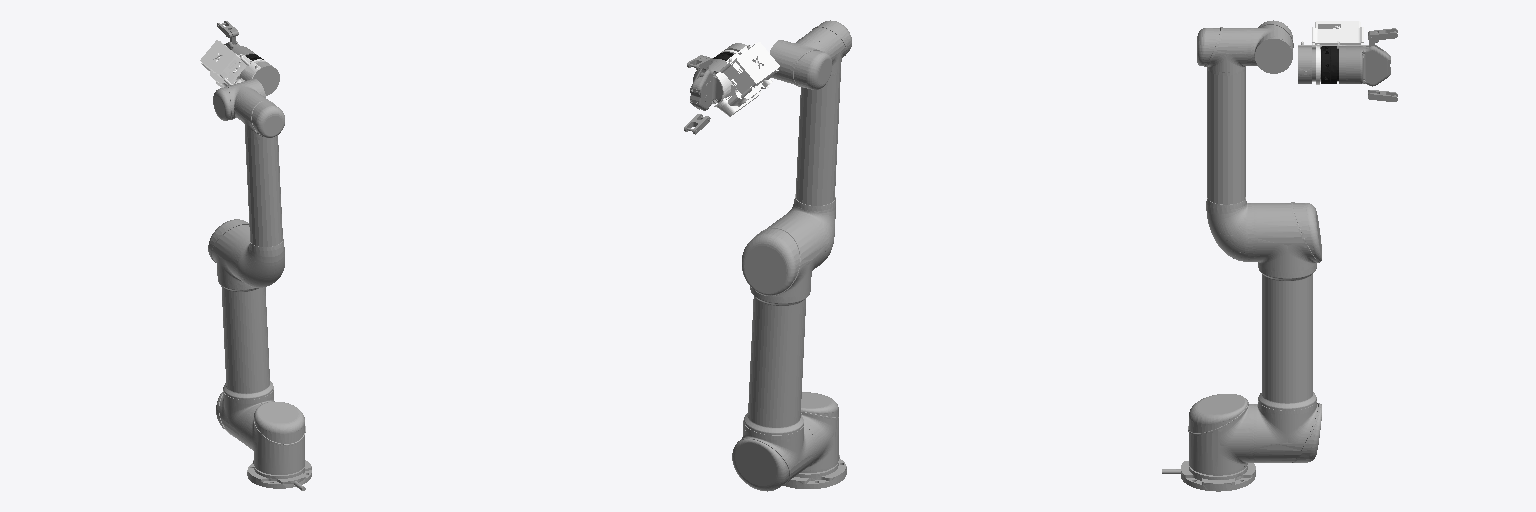
robot.urdf — ur5:
<?xml version="1.0" ?>
<!-- =================================================================================== -->
<!-- |    This document was autogenerated by xacro from ur5_joint_limited_robot.urdf.xacro | -->
<!-- |    EDITING THIS FILE BY HAND IS NOT RECOMMENDED                                 | -->
<!-- =================================================================================== -->
<robot name="ur5" xmlns:xacro="http://www.ros.org/wiki/xacro">
  <!-- ur5 arm -->

  <link name="base_link">
    <visual>
      <geometry>
        <mesh filename="package://xamla_egomo/meshes/ur5/visual/base.dae"/>
      </geometry>
      <material name="LightGrey">
        <color rgba="0.7 0.7 0.7 1.0"/>
      </material>
    </visual>
    <collision>
      <geometry>
        <mesh filename="package://xamla_egomo/meshes/ur5/collision/base.stl"/>
      </geometry>
    </collision>
    <inertial>
      <mass value="4.0"/>
      <origin rpy="0 0 0" xyz="0.0 0.0 0.0"/>
      <inertia ixx="0.00443333156" ixy="0.0" ixz="0.0" iyy="0.00443333156" iyz="0.0" izz="0.0072"/>
    </inertial>
  </link>
  <joint name="shoulder_pan_joint" type="revolute">
    <parent link="base_link"/>
    <child link="shoulder_link"/>
    <origin rpy="0.0 0.0 0.0" xyz="0.0 0.0 0.089159"/>
    <axis xyz="0 0 1"/>
    <limit effort="150.0" lower="-3.14159265" upper="3.14159265" velocity="3.15"/>
    <dynamics damping="0.0" friction="0.0"/>
  </joint>
  <link name="shoulder_link">
    <visual>
      <geometry>
        <mesh filename="package://xamla_egomo/meshes/ur5/visual/shoulder.dae"/>
      </geometry>
      <material name="LightGrey">
        <color rgba="0.7 0.7 0.7 1.0"/>
      </material>
    </visual>
    <collision>
      <geometry>
        <mesh filename="package://xamla_egomo/meshes/ur5/collision/shoulder.stl"/>
      </geometry>
    </collision>
    <inertial>
      <mass value="3.7"/>
      <origin rpy="0 0 0" xyz="0.0 0.0 0.0"/>
      <inertia ixx="0.010267495893" ixy="0.0" ixz="0.0" iyy="0.010267495893" iyz="0.0" izz="0.00666"/>
    </inertial>
  </link>
  <joint name="shoulder_lift_joint" type="revolute">
    <parent link="shoulder_link"/>
    <child link="upper_arm_link"/>
    <origin rpy="0.0 1.570796326795 0.0" xyz="0.0 0.13585 0.0"/>
    <axis xyz="0 1 0"/>
    <limit effort="150.0" lower="-3.14159265" upper="-0.1" velocity="3.15"/>
    <dynamics damping="0.0" friction="0.0"/>
  </joint>
  <link name="upper_arm_link">
    <visual>
      <geometry>
        <mesh filename="package://xamla_egomo/meshes/ur5/visual/upper_arm.dae"/>
      </geometry>
      <material name="LightGrey">
        <color rgba="0.7 0.7 0.7 1.0"/>
      </material>
    </visual>
    <collision>
      <geometry>
        <mesh filename="package://xamla_egomo/meshes/ur5/collision/upper_arm.stl"/>
      </geometry>
    </collision>
    <inertial>
      <mass value="8.393"/>
      <origin rpy="0 0 0" xyz="0.0 0.0 0.28"/>
      <inertia ixx="0.22689067591" ixy="0.0" ixz="0.0" iyy="0.22689067591" iyz="0.0" izz="0.0151074"/>
    </inertial>
  </link>
  <joint name="elbow_joint" type="revolute">
    <parent link="upper_arm_link"/>
    <child link="forearm_link"/>
    <origin rpy="0.0 0.0 0.0" xyz="0.0 -0.1197 0.425"/>
    <axis xyz="0 1 0"/>
    <limit effort="150.0" lower="-3" upper="3" velocity="3.15"/> <!-- +/- 175 deg -->
    <dynamics damping="0.0" friction="0.0"/>
  </joint>
  <link name="forearm_link">
    <visual>
      <geometry>
        <mesh filename="package://xamla_egomo/meshes/ur5/visual/forearm.dae"/>
      </geometry>
      <material name="LightGrey">
        <color rgba="0.7 0.7 0.7 1.0"/>
      </material>
    </visual>
    <collision>
      <geometry>
        <mesh filename="package://xamla_egomo/meshes/ur5/collision/forearm.stl"/>
      </geometry>
    </collision>
    <inertial>
      <mass value="2.275"/>
      <origin rpy="0 0 0" xyz="0.0 0.0 0.25"/>
      <inertia ixx="0.049443313556" ixy="0.0" ixz="0.0" iyy="0.049443313556" iyz="0.0" izz="0.004095"/>
    </inertial>
  </link>
  <joint name="wrist_1_joint" type="revolute">
    <parent link="forearm_link"/>
    <child link="wrist_1_link"/>
    <origin rpy="0.0 1.570796326795 0.0" xyz="0.0 0.0 0.39225"/>
    <axis xyz="0 1 0"/>
    <limit effort="28.0" lower="-3.92" upper="0.78" velocity="3.2"/><!-- -225 deg to 45 deg -->
    <dynamics damping="0.0" friction="0.0"/>
  </joint>
  <link name="wrist_1_link">
    <visual>
      <geometry>
        <mesh filename="package://xamla_egomo/meshes/ur5/visual/wrist_1.dae"/>
      </geometry>
      <material name="LightGrey">
        <color rgba="0.7 0.7 0.7 1.0"/>
      </material>
    </visual>
    <collision>
      <geometry>
        <mesh filename="package://xamla_egomo/meshes/ur5/collision/wrist_1.stl"/>
      </geometry>
    </collision>
    <inertial>
      <mass value="1.219"/>
      <origin rpy="0 0 0" xyz="0.0 0.0 0.0"/>
      <inertia ixx="0.111172755531" ixy="0.0" ixz="0.0" iyy="0.111172755531" iyz="0.0" izz="0.21942"/>
    </inertial>
  </link>
  <joint name="wrist_2_joint" type="revolute">
    <parent link="wrist_1_link"/>
    <child link="wrist_2_link"/>
    <origin rpy="0.0 0.0 0.0" xyz="0.0 0.093 0.0"/>
    <axis xyz="0 0 1"/>
    <limit effort="28.0" lower="-3.1415926535898" upper="3.1415926535898" velocity="3.15"/>
    <dynamics damping="0.0" friction="0.0"/>
  </joint>
  <link name="wrist_2_link">
    <visual>
      <geometry>
        <mesh filename="package://xamla_egomo/meshes/ur5/visual/wrist_2.dae"/>
      </geometry>
      <material name="LightGrey">
        <color rgba="0.7 0.7 0.7 1.0"/>
      </material>
    </visual>
    <collision>
      <geometry>
        <mesh filename="package://xamla_egomo/meshes/ur5/collision/wrist_2.stl"/>
      </geometry>
    </collision>
    <inertial>
      <mass value="1.219"/>
      <origin rpy="0 0 0" xyz="0.0 0.0 0.0"/>
      <inertia ixx="0.111172755531" ixy="0.0" ixz="0.0" iyy="0.111172755531" iyz="0.0" izz="0.21942"/>
    </inertial>
  </link>
  <joint name="wrist_3_joint" type="revolute">
    <parent link="wrist_2_link"/>
    <child link="wrist_3_link"/>
    <origin rpy="0.0 0.0 0.0" xyz="0.0 0.0 0.09465"/>
    <axis xyz="0 1 0"/>
    <limit effort="28.0" lower="-3.1415926535898" upper="3.1415926535898" velocity="3.15"/>
    <dynamics damping="0.0" friction="0.0"/>
  </joint>
  <link name="wrist_3_link">
    <visual>
      <geometry>
        <mesh filename="package://xamla_egomo/meshes/ur5/visual/wrist_3.dae"/>
      </geometry>
      <material name="LightGrey">
        <color rgba="0.7 0.7 0.7 1.0"/>
      </material>
    </visual>
    <collision>
      <geometry>
        <mesh filename="package://xamla_egomo/meshes/ur5/collision/wrist_3.stl"/>
      </geometry>
    </collision>
    <inertial>
      <mass value="0.1879"/>
      <origin rpy="0 0 0" xyz="0.0 0.0 0.0"/>
      <inertia ixx="0.0171364731454" ixy="0.0" ixz="0.0" iyy="0.0171364731454" iyz="0.0" izz="0.033822"/>
    </inertial>
  </link>
  <joint name="ee_fixed_joint" type="fixed">
    <parent link="wrist_3_link"/>
    <child link="ee_link"/>
    <origin rpy="-1.570796326795 0.0 0" xyz="0.0 0.0823 0.0"/>
  </joint>
  <link name="ee_link">
    <collision>
      <geometry>
        <box size="0.01 0.01 0.01"/>
      </geometry>
      <origin rpy="0 0 0" xyz="-0.01 0 0"/>
    </collision>
  </link>
  <transmission name="shoulder_pan_trans">
    <type>transmission_interface/SimpleTransmission</type>
    <joint name="shoulder_pan_joint">
      <hardwareInterface>PositionJointInterface</hardwareInterface>
    </joint>
    <actuator name="shoulder_pan_motor">
      <mechanicalReduction>1</mechanicalReduction>
    </actuator>
  </transmission>
  <transmission name="shoulder_lift_trans">
    <type>transmission_interface/SimpleTransmission</type>
    <joint name="shoulder_lift_joint">
      <hardwareInterface>PositionJointInterface</hardwareInterface>
    </joint>
    <actuator name="shoulder_lift_motor">
      <mechanicalReduction>1</mechanicalReduction>
    </actuator>
  </transmission>
  <transmission name="elbow_trans">
    <type>transmission_interface/SimpleTransmission</type>
    <joint name="elbow_joint">
      <hardwareInterface>PositionJointInterface</hardwareInterface>
    </joint>
    <actuator name="elbow_motor">
      <mechanicalReduction>1</mechanicalReduction>
    </actuator>
  </transmission>
  <transmission name="wrist_1_trans">
    <type>transmission_interface/SimpleTransmission</type>
    <joint name="wrist_1_joint">
      <hardwareInterface>PositionJointInterface</hardwareInterface>
    </joint>
    <actuator name="wrist_1_motor">
      <mechanicalReduction>1</mechanicalReduction>
    </actuator>
  </transmission>
  <transmission name="wrist_2_trans">
    <type>transmission_interface/SimpleTransmission</type>
    <joint name="wrist_2_joint">
      <hardwareInterface>PositionJointInterface</hardwareInterface>
    </joint>
    <actuator name="wrist_2_motor">
      <mechanicalReduction>1</mechanicalReduction>
    </actuator>
  </transmission>
  <transmission name="wrist_3_trans">
    <type>transmission_interface/SimpleTransmission</type>
    <joint name="wrist_3_joint">
      <hardwareInterface>PositionJointInterface</hardwareInterface>
    </joint>
    <actuator name="wrist_3_motor">
      <mechanicalReduction>1</mechanicalReduction>
    </actuator>
  </transmission>
  
  <link name="base"/>
  <joint name="base_link-base_fixed_joint" type="fixed">
    <!-- NOTE: this rotation is only needed as long as base_link itself is
                 not corrected wrt the real robot (ie: rotated over 180
                 degrees)
      -->
    <origin rpy="0 0 -3.14159265" xyz="0 0 0"/>
    <parent link="base_link"/>
    <child link="base"/>
  </joint>
  <link name="tool0"/>
  <joint name="wrist_3_link-tool0_fixed_joint" type="fixed">
    <origin rpy="-1.570796326795 0 0" xyz="0 0.0823 0"/>
    <parent link="wrist_3_link"/>
    <child link="tool0"/>
  </joint>
  <link name="world"/>
  <joint name="world_joint" type="fixed">
    <parent link="world"/>
    <child link="base_link"/>
    <origin rpy="0.0 0.0 0.0" xyz="0.0 0.0 0.0"/>
  </joint>

  <!-- ========================================== -->

  <!-- force torque sensor (robotiq) -->

  <link name="fts_robotside">
    <inertial>
      <origin rpy="0 0 0" xyz="0 0 0"/>
      <mass value="0.65"/>
      <inertia ixx="0.000661171875" ixy="0" ixz="0" iyy="0.000661171875" iyz="0" izz="0.00117"/>
    </inertial>
    <visual>
      <origin rpy="0 3.1415926535898 -1.570796326795" xyz="0 0 0.0375"/>
      <geometry>
        <mesh filename="package://xamla_egomo/meshes/robotiq-ft300/visual/ft300.dae"/>
      </geometry>
    </visual>
    <collision>
      <origin rpy="0 3.1415926535898 -1.570796326795" xyz="0 0 0.0375"/>
      <geometry>
        <mesh filename="package://xamla_egomo/meshes/robotiq-ft300/collision/ft300.stl"/>
      </geometry>
    </collision>
  </link>
  
  <!-- virtual measurement frame -->
  <joint name="measurment_joint" type="fixed">
    <origin rpy="0 0 0" xyz="0 0 0.01625"/>
    <parent link="fts_robotside"/>
    <child link="robotiq_force_torque_frame_id"/>
  </joint>
  <link name="robotiq_force_torque_frame_id"/>
  
  <!-- toolside frame -->
  <joint name="toolside_joint" type="fixed">
    <origin rpy="0 0 0" xyz="0 0 0.0375"/>
    <parent link="fts_robotside"/>
    <child link="fts_toolside"/>
  </joint>
  <link name="fts_toolside"/>

 <!-- ========================================== -->
 
  <link name="camera_robotside">
    <visual>
      <origin rpy="0 0 0" xyz="0 0 0"/>
      <geometry>
        <mesh filename="package://xamla_egomo/meshes/egomo-1/visual/egomo-1.dae"/>
      </geometry>
      <material name="white">
        <color rgba="1 1 1 1"/>
      </material>
    </visual>
    <collision>
      <origin rpy="0 0 0" xyz="0 0 0"/>
      <geometry>
        <mesh filename="package://xamla_egomo/meshes/egomo-1/collision/egomo-1.stl"/>
      </geometry>
    </collision>
  </link>

  <!-- Mount the force torque sensor (fts) to the robot -->

  <joint name="fts_to_robot" type="fixed" >
    <parent link="tool0" />
    <child link="fts_robotside" />
    <origin xyz="0 0 0.011" rpy="0 0 0" />
  </joint>

  <!-- Mount the cameras to the robot -->

  <joint name="camera_to_robot" type="fixed" >
    <parent link="tool0" />
    <child link="camera_robotside" />
    <origin xyz="0 0 0" rpy="0 0 0" />
  </joint> 


  <!-- ========================================== -->
  
<link name="robotiq_85_coupling">
  <visual>
    <geometry>
      <mesh filename="package://xamla_egomo/meshes/robotiq-2-finger-85/visual/gripper_coupling.dae"/>
    </geometry>
    <origin rpy="0 0 3.1415926535898" xyz="0 0 0"/>
  </visual>
  <collision>
    <geometry>
      <mesh filename="package://xamla_egomo/meshes/robotiq-2-finger-85/collision/gripper_coupling.stl"/>
    </geometry>
    <origin rpy="0 0 3.1415926535898" xyz="0 0 0"/>
  </collision>
</link>

<joint name="robotiq_85_base_joint" type="fixed">
  <parent link="robotiq_85_coupling"/>
  <child link="robotiq_85_base"/>
  <origin xyz="0 0 0.0109" rpy="0 0 0" />
</joint>

<link name="robotiq_85_base">
  <visual>
    <geometry>
      <mesh filename="package://xamla_egomo/meshes/robotiq-2-finger-85/visual/gripper_base.dae"/>
    </geometry>
    <origin rpy="0 0 3.1415926535898" xyz="0 0 0"/>
  </visual>
  <collision>
    <geometry>
      <mesh filename="package://xamla_egomo/meshes/robotiq-2-finger-85/collision/gripper_base.stl"/>
    </geometry>
    <origin rpy="0 0 3.1415926535898" xyz="0 0 0"/>
  </collision>
</link>

<link name="robotiq_85_finger_right_1">
  <visual>
    <geometry>
      <mesh filename="package://xamla_egomo/meshes/robotiq-2-finger-85/visual/gripper_finger_right_1.dae"/>
    </geometry>
    <origin rpy="0 0 3.1415926535898" xyz="0.0305864 0 -0.0549191"/>
  </visual>
  <collision>
    <geometry>
      <mesh filename="package://xamla_egomo/meshes/robotiq-2-finger-85/collision/gripper_finger_right_1.stl"/>
    </geometry>
    <origin rpy="0 0 3.1415926535898" xyz="0.0305864 0 -0.0549191"/>
  </collision>
</link>

<link name="robotiq_85_finger_right_2">
  <visual>
    <geometry>
      <mesh filename="package://xamla_egomo/meshes/robotiq-2-finger-85/visual/gripper_finger_right_2.dae"/>
    </geometry>
    <origin rpy="0 0 3.1415926535898" xyz="0.0621231 0 -0.0511592"/>
  </visual>
  <collision>
    <geometry>
      <mesh filename="package://xamla_egomo/meshes/robotiq-2-finger-85/collision/gripper_finger_right_2.stl"/>
    </geometry>
    <origin rpy="0 0 3.1415926535898" xyz="0.0621231 0 -0.0511592"/>
  </collision>
</link>

<link name="robotiq_85_finger_right_3">
  <visual>
    <geometry>
      <mesh filename="package://xamla_egomo/meshes/robotiq-2-finger-85/visual/gripper_finger_right_3.dae"/>
    </geometry>
    <origin rpy="0 0 3.1415926535898" xyz="0.0127161 0 -0.0613987"/>
  </visual>
  <collision>
    <geometry>
      <mesh filename="package://xamla_egomo/meshes/robotiq-2-finger-85/collision/gripper_finger_right_3.stl"/>
    </geometry>
    <origin rpy="0 0 3.1415926535898" xyz="0.0127161 0 -0.0613987"/>
  </collision>
</link>

<link name="robotiq_85_finger_right_4">
  <visual>
    <geometry>
      <mesh filename="package://xamla_egomo/meshes/robotiq-2-finger-85/visual/gripper_finger_right_4.dae"/>
    </geometry>
    <origin rpy="0 0 3.1415926535898" xyz="0.0498492 0 -0.1048415"/>
  </visual>
  <collision>
    <geometry>
      <mesh filename="package://xamla_egomo/meshes/robotiq-2-finger-85/collision/gripper_finger_right_4.stl"/>
    </geometry>
    <origin rpy="0 0 3.1415926535898" xyz="0.0498492 0 -0.1048415"/>
  </collision>
</link>

<link name="robotiq_85_finger_left_1">
  <visual>
    <geometry>
      <mesh filename="package://xamla_egomo/meshes/robotiq-2-finger-85/visual/gripper_finger_left_1.dae"/>
    </geometry>
    <origin rpy="0 0 3.1415926535898" xyz="-0.0305864 0 -0.0549191"/>
  </visual>
  <collision>
    <geometry>
      <mesh filename="package://xamla_egomo/meshes/robotiq-2-finger-85/collision/gripper_finger_left_1.stl"/>
    </geometry>
    <origin rpy="0 0 3.1415926535898" xyz="-0.0305864 0 -0.0549191"/>
  </collision>
</link>

<link name="robotiq_85_finger_left_2">
  <visual>
    <geometry>
      <mesh filename="package://xamla_egomo/meshes/robotiq-2-finger-85/visual/gripper_finger_left_2.dae"/>
    </geometry>
    <origin rpy="0 0 3.1415926535898" xyz="-0.0621231 0 -0.0511592"/>
  </visual>
  <collision>
    <geometry>
      <mesh filename="package://xamla_egomo/meshes/robotiq-2-finger-85/collision/gripper_finger_left_2.stl"/>
    </geometry>
    <origin rpy="0 0 3.1415926535898" xyz="-0.0621231 0 -0.0511592"/>
  </collision>
</link>

<link name="robotiq_85_finger_left_3">
  <visual>
    <geometry>
      <mesh filename="package://xamla_egomo/meshes/robotiq-2-finger-85/visual/gripper_finger_left_3.dae"/>
    </geometry>
    <origin rpy="0 0 3.1415926535898" xyz="-0.0127161 0 -0.0613987"/>
  </visual>
  <collision>
    <geometry>
      <mesh filename="package://xamla_egomo/meshes/robotiq-2-finger-85/collision/gripper_finger_left_3.stl"/>
    </geometry>
    <origin rpy="0 0 3.1415926535898" xyz="-0.0127161 0 -0.0613987"/>
  </collision>
</link>

<link name="robotiq_85_finger_left_4">
  <visual>
    <geometry>
      <mesh filename="package://xamla_egomo/meshes/robotiq-2-finger-85/visual/gripper_finger_left_4.dae"/>
    </geometry>
    <origin rpy="0 0 3.1415926535898" xyz="-0.0498492 0 -0.1048415"/>
  </visual>
  <collision>
    <geometry>
      <mesh filename="package://xamla_egomo/meshes/robotiq-2-finger-85/collision/gripper_finger_left_4.stl"/>
    </geometry>
    <origin rpy="0 0 3.1415926535898" xyz="-0.0498492 0 -0.1048415"/>
  </collision>
</link>

<joint name="robotiq_85_finger_right_1_joint" type="revolute">
  <parent link="robotiq_85_base"/>
  <child link="robotiq_85_finger_right_1"/>
  <axis xyz="0 1 0"/>
  <origin rpy="0 0 0" xyz="-0.0305864 0 0.0549191"/>
  <limit effort="1000" lower="0" upper="0.811" velocity="2.0"/>
</joint>

<joint name="robotiq_85_finger_right_2_joint" type="fixed">
  <parent link="robotiq_85_finger_right_1"/>
  <child link="robotiq_85_finger_right_2"/>
  <axis xyz="0 1 0"/>
  <origin rpy="0 0 0" xyz="-0.0315367 0 -0.0037599"/>
</joint>

<joint name="robotiq_85_finger_right_3_joint" type="revolute">
  <parent link="robotiq_85_base"/>
  <child link="robotiq_85_finger_right_3"/>
  <axis xyz="0 1 0"/>
  <origin rpy="0 0 0" xyz="-0.0127161 0 0.0613987"/>
  <limit effort="1000" lower="0" upper="0.811" velocity="2.0"/>
  <mimic joint="robotiq_85_finger_right_1_joint" multiplier="1"/>
</joint>

<joint name="robotiq_85_finger_right_4_joint" type="revolute">
  <parent link="robotiq_85_finger_right_3"/>
  <child link="robotiq_85_finger_right_4"/>
  <axis xyz="0 1 0"/>
  <origin rpy="0 0 0" xyz="-0.0371331 0 0.0434428"/>
  <mimic joint="robotiq_85_finger_right_1_joint" multiplier="-1"/>
  <limit effort="1000" lower="-0.811" upper="0" velocity="2.0"/>
</joint>

<joint name="robotiq_85_finger_left_1_joint" type="revolute">
  <parent link="robotiq_85_base"/>
  <child link="robotiq_85_finger_left_1"/>
  <axis xyz="0 1 0"/>
  <origin rpy="0 0 0" xyz="0.0305864 0 0.0549191"/>
  <mimic joint="robotiq_85_finger_right_1_joint" multiplier="-1"/>
  <limit effort="1000" lower="-0.811" upper="0" velocity="2.0"/>
</joint>

<joint name="robotiq_85_finger_left_2_joint" type="fixed">
  <parent link="robotiq_85_finger_left_1"/>
  <child link="robotiq_85_finger_left_2"/>
  <axis xyz="0 1 0"/>
  <origin rpy="0 0 0" xyz="0.0315367 0 -0.0037599"/>
</joint>

<joint name="robotiq_85_finger_left_3_joint" type="revolute">
  <parent link="robotiq_85_base"/>
  <child link="robotiq_85_finger_left_3"/>
  <axis xyz="0 1 0"/>
  <origin rpy="0 0 0" xyz="0.0127161 0 0.0613987"/>
  <mimic joint="robotiq_85_finger_right_1_joint" multiplier="-1"/>
  <limit effort="1000" lower="-0.811" upper="0" velocity="2.0"/>
</joint>

<joint name="robotiq_85_finger_left_4_joint" type="revolute">
  <parent link="robotiq_85_finger_left_3"/>
  <child link="robotiq_85_finger_left_4"/>
  <axis xyz="0 1 0"/>
  <origin rpy="0 0 0" xyz="0.0371331 0 0.0434428"/>
  <mimic joint="robotiq_85_finger_right_1_joint" multiplier="1"/>
  <limit effort="1000" lower="0" upper="0.811" velocity="2.0"/>
</joint>

<!-- ========================================== -->

 <!-- Mount the gripper to the force torque sensor -->
 <joint name="gripper_to_fts" type="fixed" >
    <parent link="fts_toolside" />
    <child link="robotiq_85_coupling" />
    <origin xyz="0 0 -0.003" rpy="0 0 0" />
  </joint> 

</robot>

--- Facts derived from the render (not from the file) ---
3 views of the same robot in one strip: view 1: azimuth 30°, elevation 25°; view 2: azimuth 150°, elevation 25°; view 3: azimuth 270°, elevation 25° (orthographic).
Robot: ur5 — 25 links, 24 joints (12 revolute, 12 fixed); root link world; default pose: all joints at 0 but 1 set to mid-range because 0 is outside their limits (shoulder_lift_joint = -1.62).
Visible links, largest first — view 1: upper_arm_link, forearm_link, shoulder_link, camera_robotside, wrist_1_link, base_link, wrist_3_link; view 2: upper_arm_link, forearm_link, camera_robotside, wrist_1_link, shoulder_link, robotiq_85_base, base_link; view 3: upper_arm_link, forearm_link, shoulder_link, wrist_1_link, robotiq_85_base, camera_robotside, base_link, fts_robotside, wrist_3_link.
Link boxes in pixels (x1,y1,x2,y2): upper_arm_link: [208, 219, 274, 445]; forearm_link: [234, 92, 284, 287]; shoulder_link: [242, 402, 305, 474]; camera_robotside: [200, 40, 267, 87]; wrist_1_link: [213, 79, 265, 120]; base_link: [247, 460, 311, 490]; wrist_3_link: [253, 62, 279, 95]; upper_arm_link: [732, 214, 825, 491]; forearm_link: [784, 20, 851, 265]; camera_robotside: [714, 42, 779, 116]; wrist_1_link: [770, 38, 831, 89]; shoulder_link: [801, 392, 838, 472]; robotiq_85_base: [690, 61, 724, 110]; base_link: [783, 455, 846, 488]; upper_arm_link: [1254, 202, 1321, 462]; forearm_link: [1197, 27, 1253, 261]; shoulder_link: [1188, 394, 1253, 475]; wrist_1_link: [1251, 20, 1293, 73]; robotiq_85_base: [1346, 45, 1390, 86]; camera_robotside: [1298, 21, 1368, 84]; base_link: [1162, 461, 1255, 491]; fts_robotside: [1321, 46, 1338, 83]; wrist_3_link: [1298, 46, 1315, 83].
Size in the robot's own frame: 0.196 by 0.4621 by 0.9873 metres.
13 mesh visuals loaded from 19 distinct referenced files (13 Collada DAE); not drawn: 6 (reference not matched to a file when rendering).